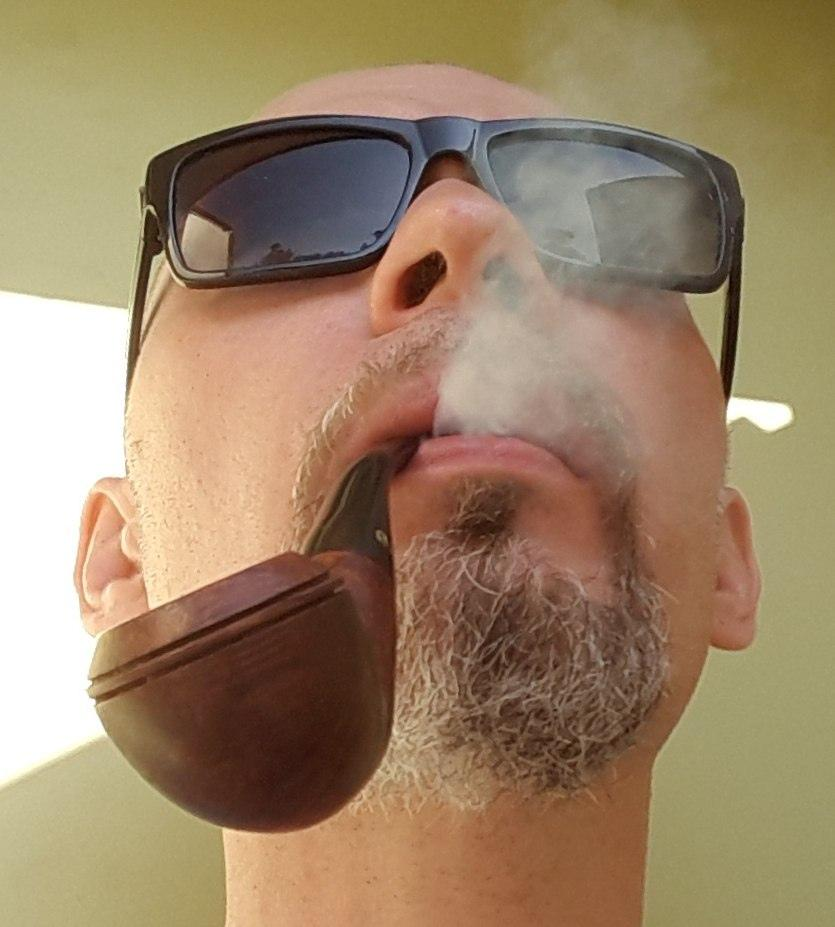trubka: (89, 443, 413, 832)
